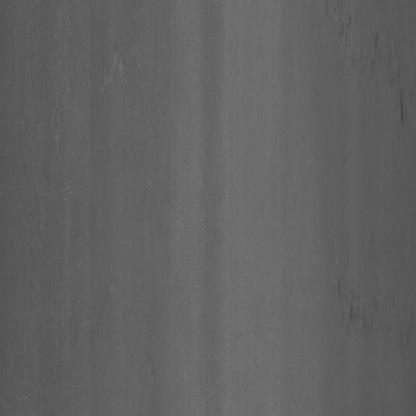silk_spot: (27, 24, 145, 109), (322, 4, 408, 116), (311, 256, 399, 362)
